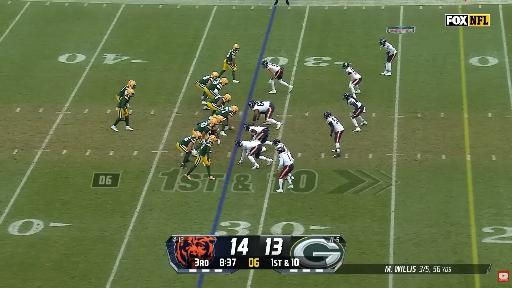Helmet: (215, 115, 225, 123), (193, 131, 202, 139), (127, 80, 136, 88), (343, 92, 351, 100), (223, 94, 231, 102), (244, 123, 251, 131), (210, 118, 217, 126), (261, 60, 268, 68), (342, 62, 350, 69), (235, 139, 242, 146), (324, 112, 331, 119), (209, 135, 216, 142), (127, 88, 134, 95), (221, 78, 228, 85), (231, 106, 238, 113), (380, 38, 386, 46), (249, 100, 255, 108), (277, 147, 285, 153), (212, 72, 219, 78), (273, 139, 280, 145), (233, 44, 239, 50)
Jersey: (327, 116, 343, 131), (198, 140, 212, 157), (194, 120, 212, 133), (215, 107, 233, 118), (279, 152, 294, 165), (345, 67, 361, 79), (347, 98, 363, 110), (253, 102, 270, 113), (117, 95, 131, 108), (207, 79, 222, 91), (241, 141, 260, 150), (179, 136, 196, 146), (225, 49, 238, 62), (198, 75, 214, 85), (250, 126, 267, 135), (118, 85, 130, 97), (267, 63, 281, 73), (384, 43, 396, 54), (275, 143, 289, 151), (207, 96, 223, 103)
Player: (186, 136, 216, 180), (235, 139, 272, 169), (262, 60, 293, 93), (111, 88, 134, 131), (249, 100, 281, 129), (344, 93, 367, 131), (177, 132, 201, 168), (324, 112, 343, 157), (276, 147, 294, 192), (220, 44, 239, 83), (196, 72, 219, 104), (342, 63, 361, 98), (216, 106, 238, 135), (380, 39, 397, 75), (193, 118, 217, 143), (244, 123, 272, 144), (207, 94, 231, 115), (204, 78, 227, 98), (116, 80, 136, 102), (211, 116, 225, 145), (273, 139, 289, 151), (273, 139, 288, 150)
